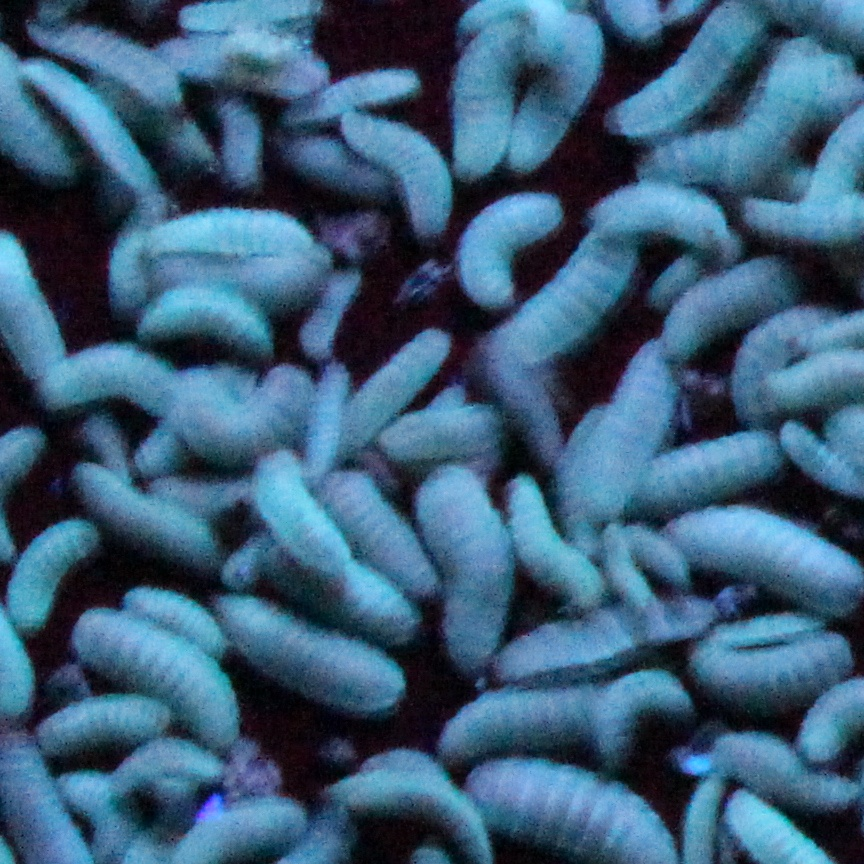larve: (213, 587, 411, 712), (71, 607, 244, 736), (18, 56, 166, 182), (64, 463, 224, 574), (426, 469, 513, 667), (515, 216, 637, 352), (666, 247, 824, 351), (689, 614, 853, 714), (258, 545, 427, 638), (497, 603, 708, 676), (324, 476, 447, 598), (33, 12, 184, 111), (335, 322, 447, 451), (507, 472, 609, 612), (586, 351, 673, 507), (342, 109, 455, 229), (515, 11, 597, 169), (251, 443, 351, 565), (457, 12, 529, 176), (446, 682, 615, 751), (135, 285, 284, 363), (460, 194, 558, 311), (631, 425, 777, 500), (184, 369, 309, 454), (149, 202, 318, 263), (729, 307, 813, 416), (13, 520, 95, 629), (44, 343, 178, 409), (589, 182, 724, 247), (118, 583, 231, 656), (393, 396, 515, 458), (631, 132, 780, 182), (600, 667, 682, 756), (289, 131, 391, 196), (113, 734, 228, 791), (282, 72, 424, 118), (113, 191, 162, 307), (211, 92, 264, 191), (46, 694, 155, 742), (304, 265, 357, 362), (604, 522, 651, 607), (628, 523, 688, 580)
